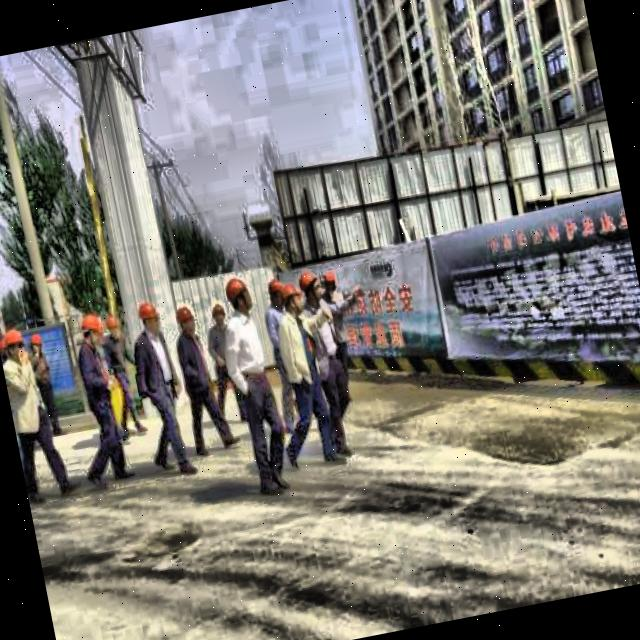helmet: (222, 270, 260, 318), (130, 295, 166, 339), (76, 305, 106, 350), (295, 266, 328, 306), (0, 321, 29, 364), (173, 300, 203, 341), (278, 278, 306, 316), (263, 273, 287, 310), (208, 298, 231, 331), (26, 328, 48, 361), (102, 310, 124, 342), (321, 266, 338, 297)
